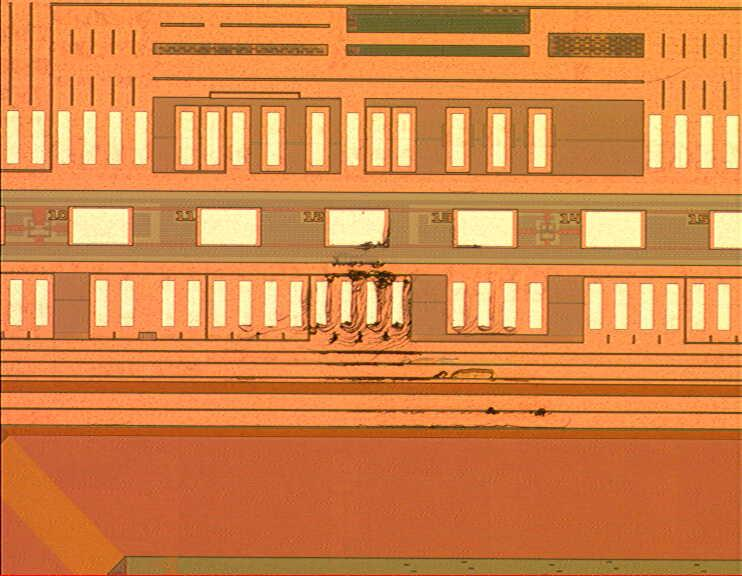SCRATCH: (225, 229, 570, 435)
